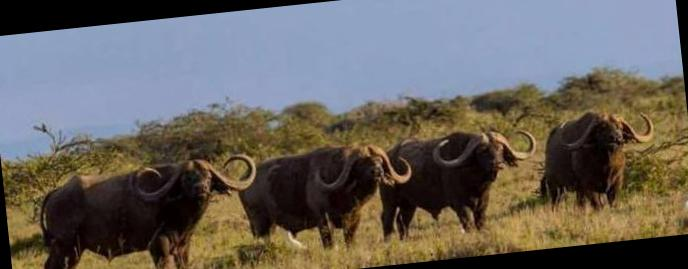Buffalo: (0, 82, 686, 269)
